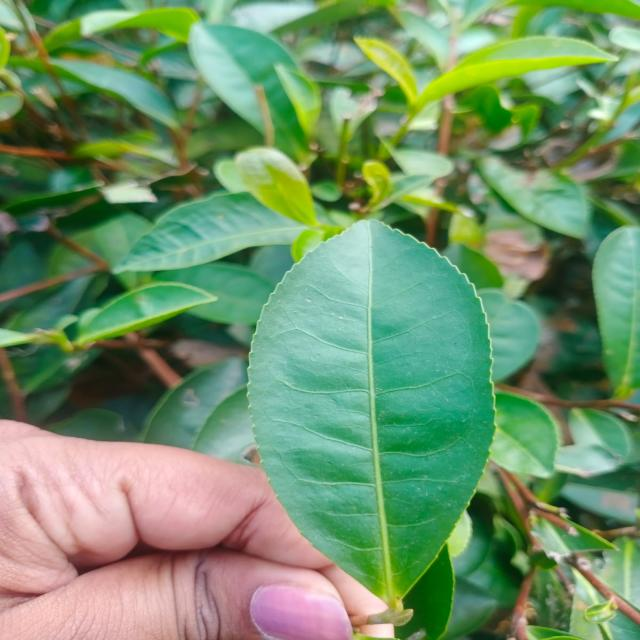Category D 7+ days, Not for Tea: (188, 205, 512, 619)
